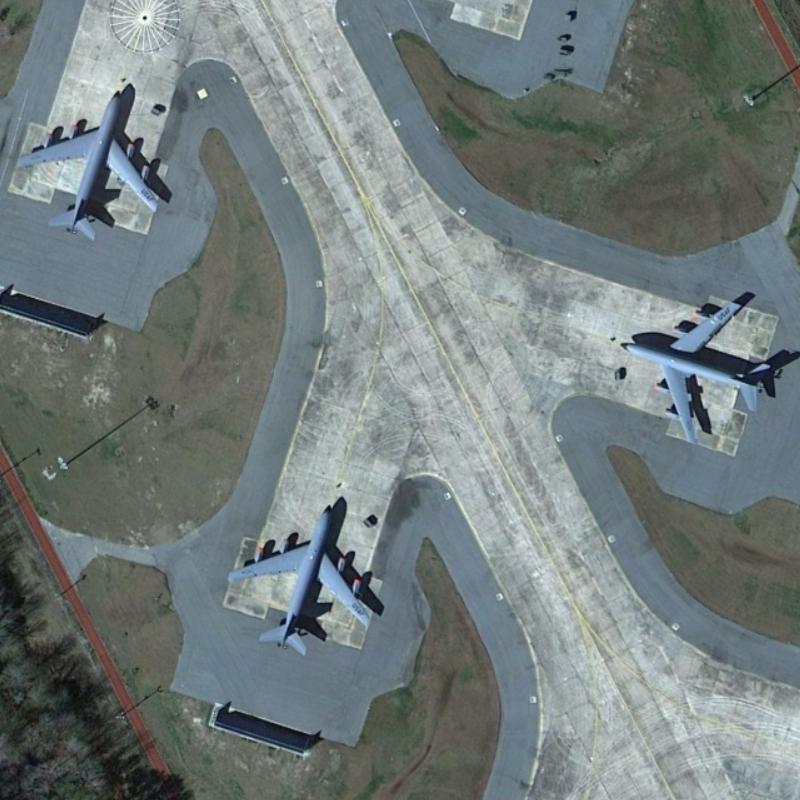A14: (14, 80, 169, 249), (222, 494, 379, 658), (611, 296, 775, 449)
